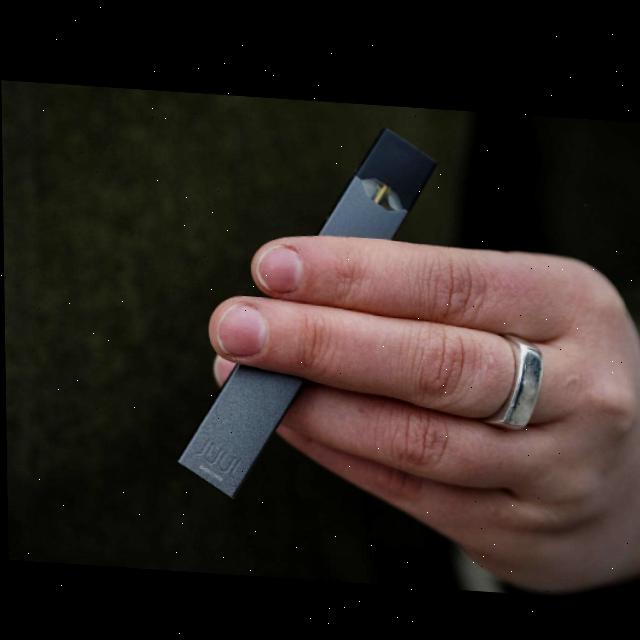vape: (171, 108, 446, 510)
